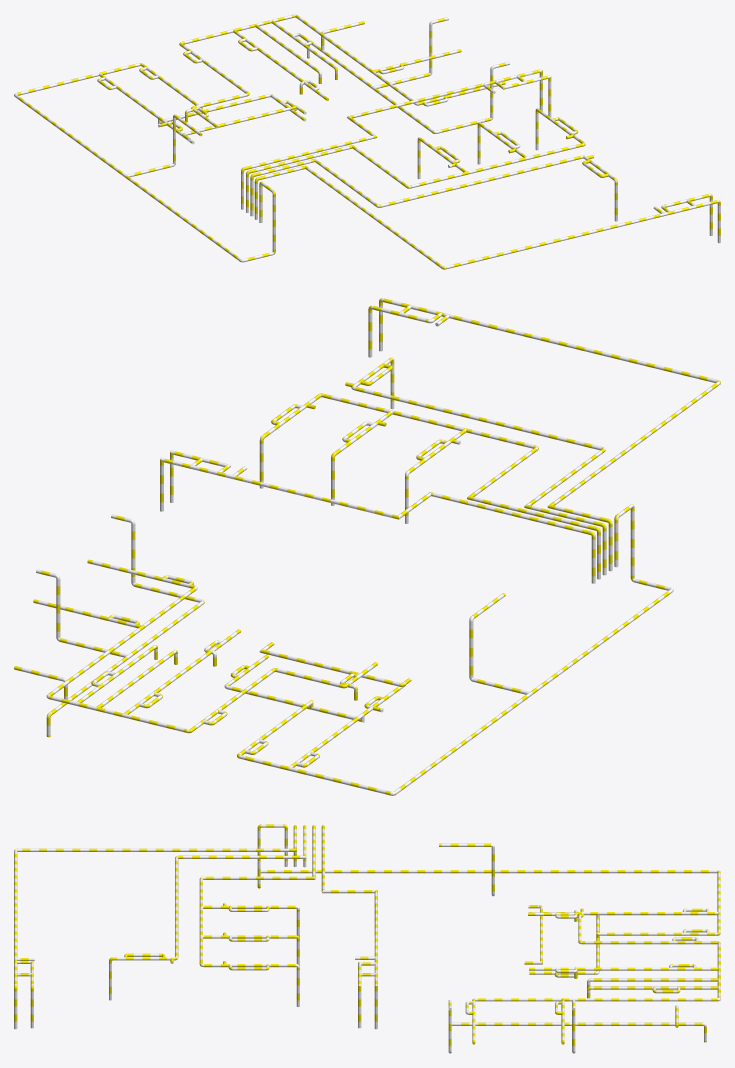
The model's file is yellowPiple.obj.
3 views of the same model, one above another, from view 1: azimuth 30°, elevation 25°; view 2: azimuth 150°, elevation 25°; view 3: azimuth 270°, elevation 25° (orthographic). The views are drawn at different scales.
Parts seen in each view (by area): view 1: kongtiao131; view 2: kongtiao131; view 3: kongtiao131.
Boxes of the visible parts, x1=… form: kongtiao131: x1=14, y1=14, x2=720, y2=269; kongtiao131: x1=14, y1=298, x2=720, y2=795; kongtiao131: x1=14, y1=824, x2=720, y2=1053.
Bounding box in the file's own units: 11.58 × 2.7 × 18.88.
1 material, 1 textured.
